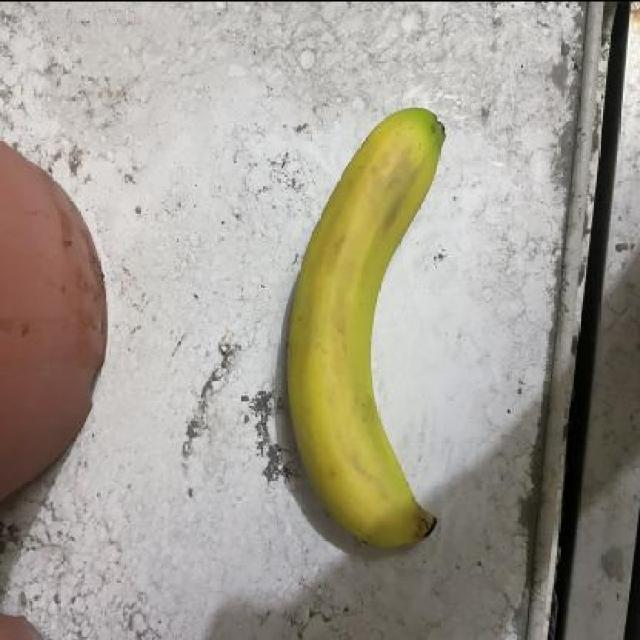Banana: (278, 100, 450, 552)
